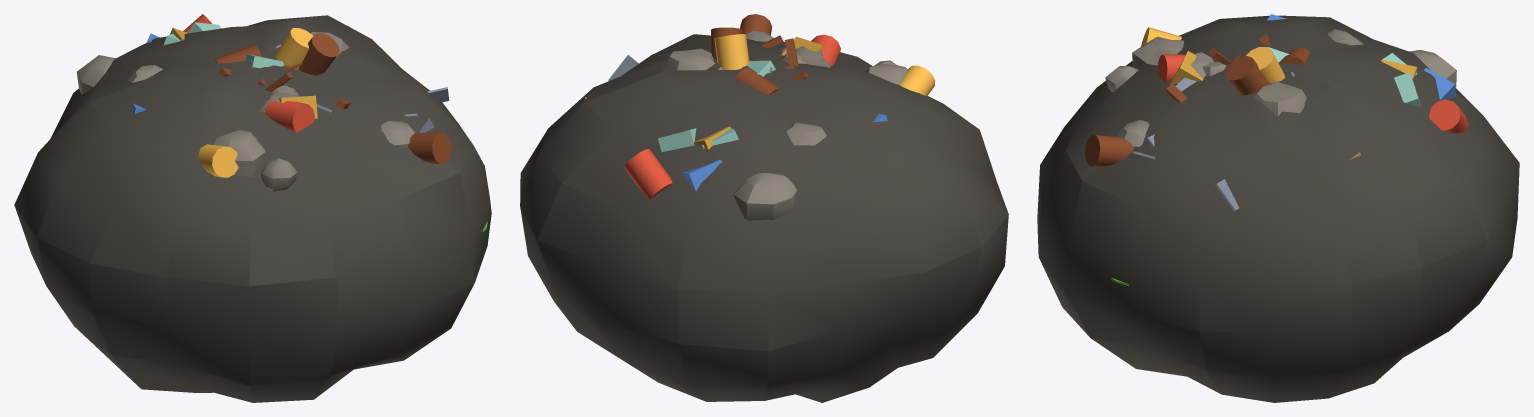
Rendered from muellberg.obj.
3 renders of one model, left to right at view 1: azimuth 30°, elevation 25°; view 2: azimuth 150°, elevation 25°; view 3: azimuth 270°, elevation 25°, orthographic.
Visible parts, largest first — view 1: muellberg_Koerper; view 2: muellberg_Koerper; view 3: muellberg_Koerper.
Part boxes in pixels (x1=…): muellberg_Koerper: x1=14, y1=14, x2=491, y2=402; muellberg_Koerper: x1=520, y1=14, x2=1008, y2=402; muellberg_Koerper: x1=1037, y1=14, x2=1519, y2=402.
Bounding box in the file's own units: 6.78 × 5.16 × 6.59.
